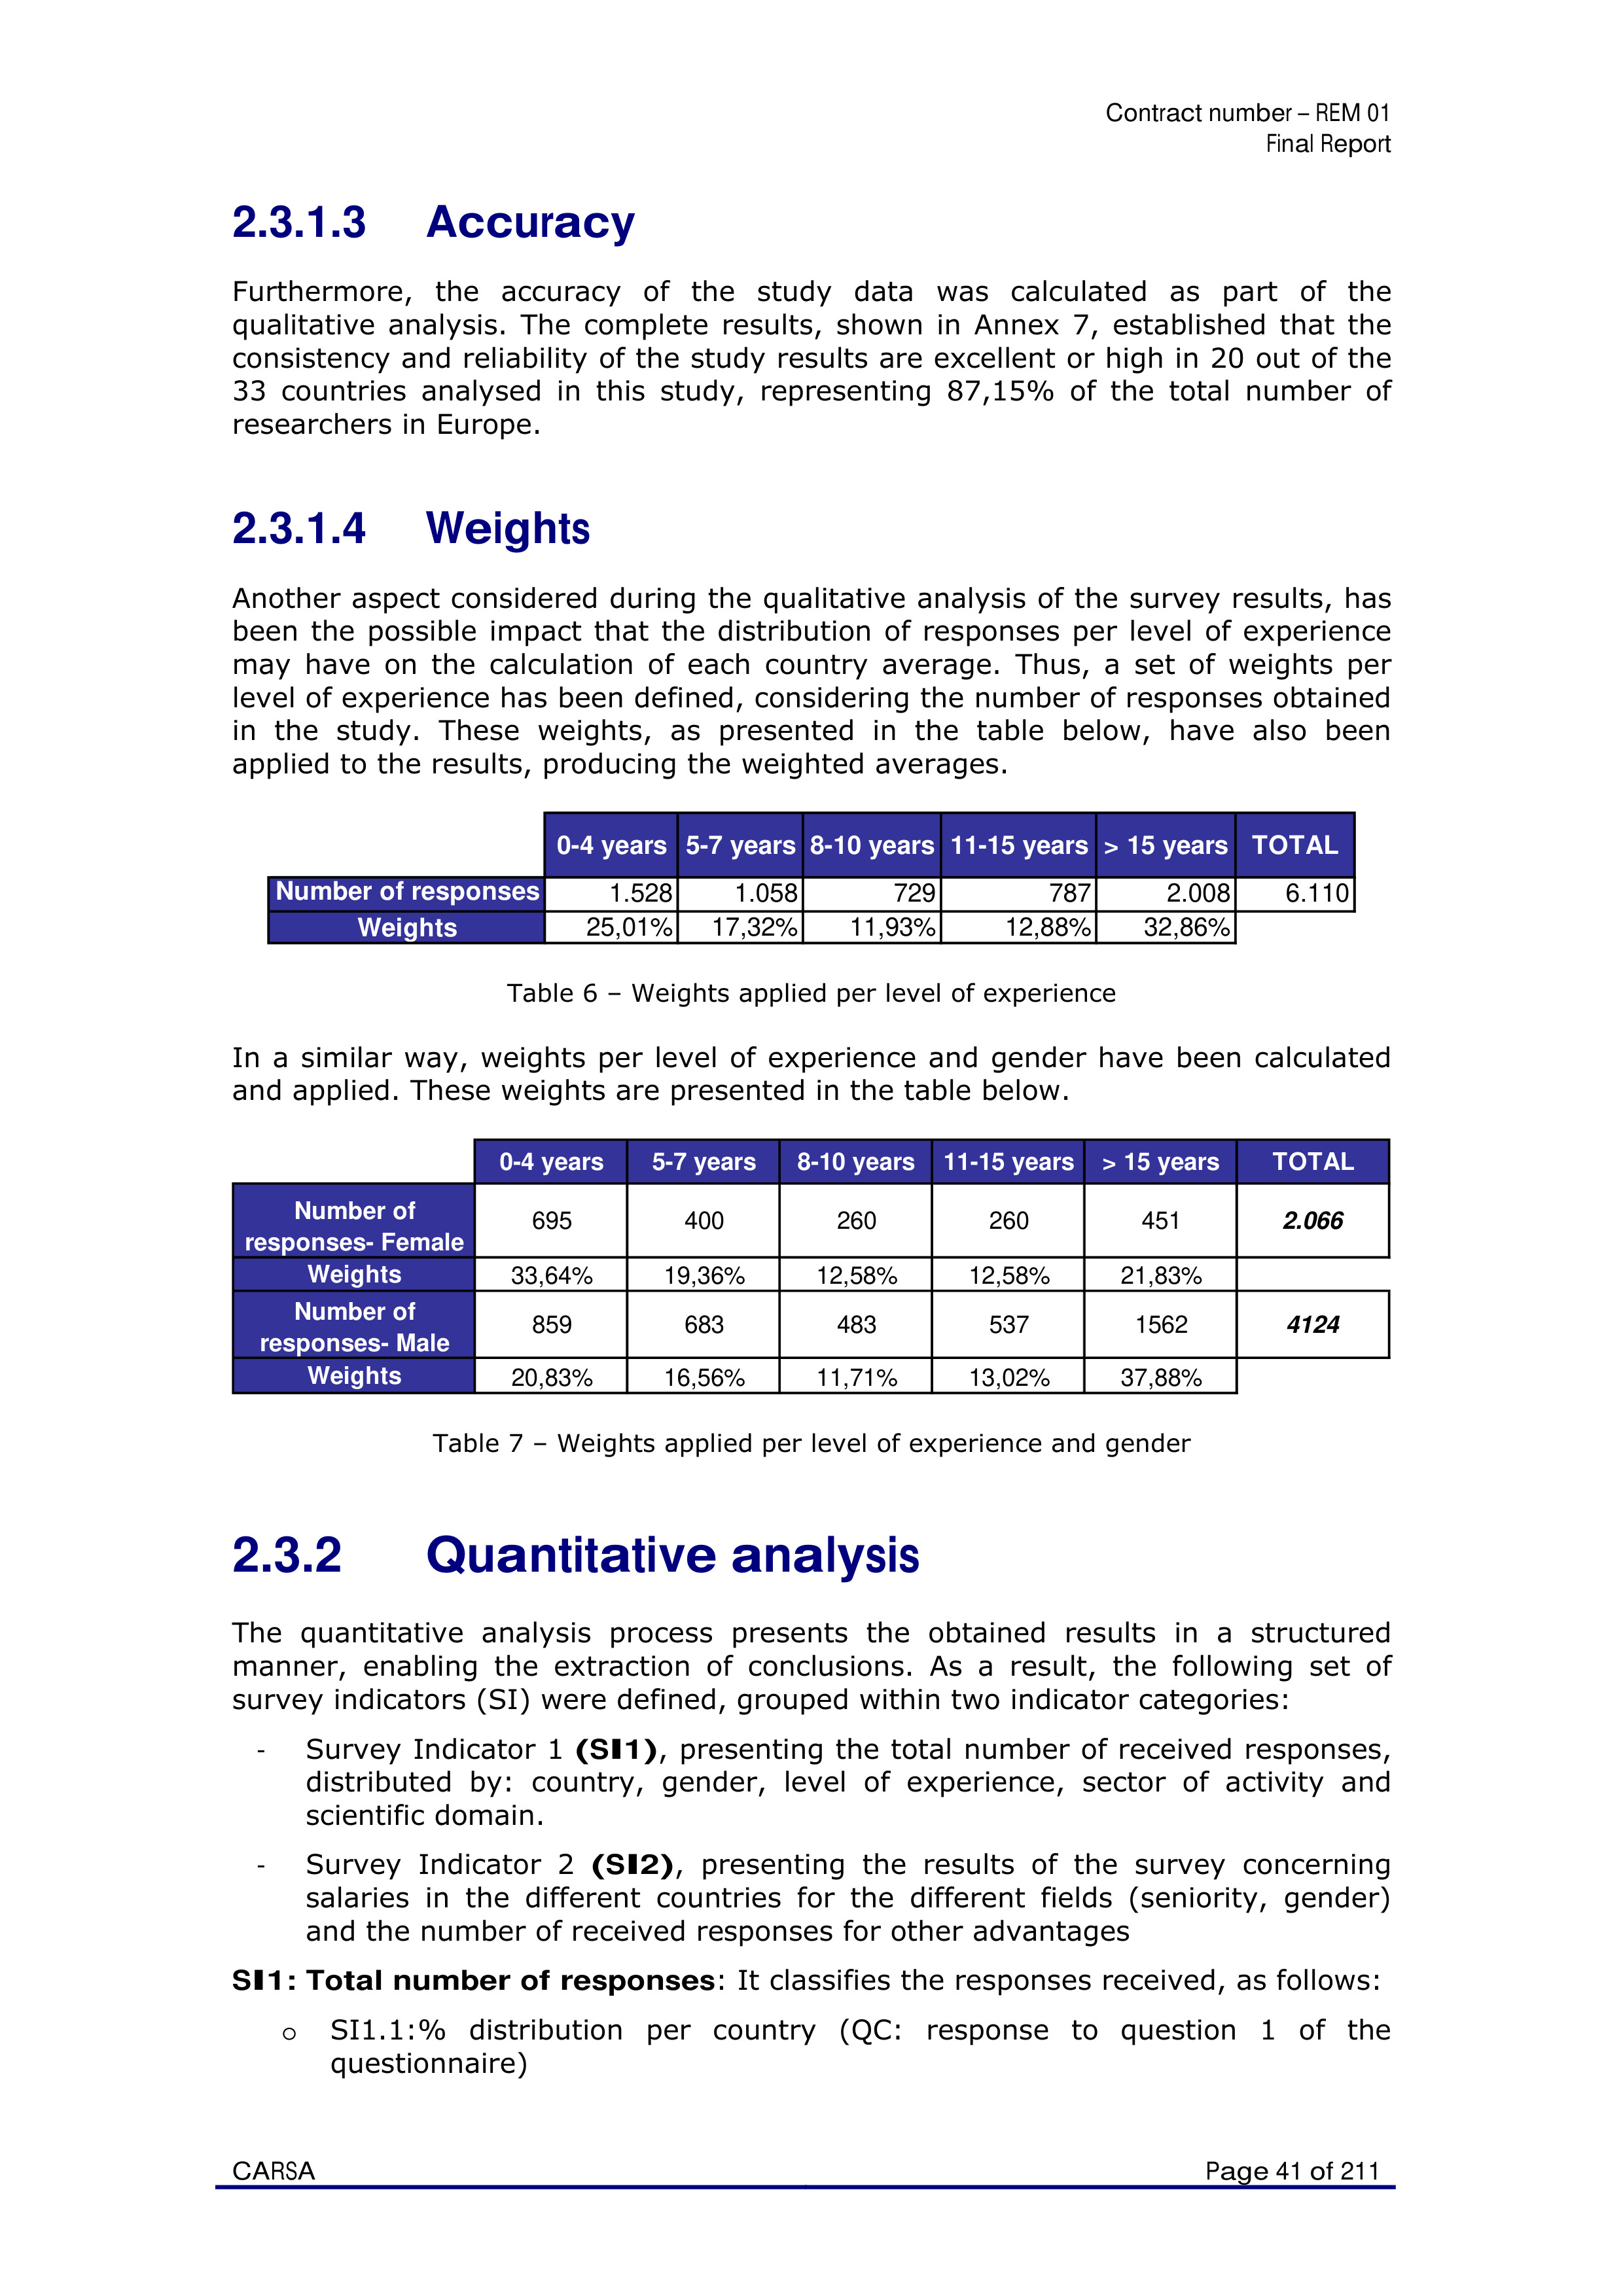table: (244, 1144, 1354, 1394), (274, 827, 1351, 944)
